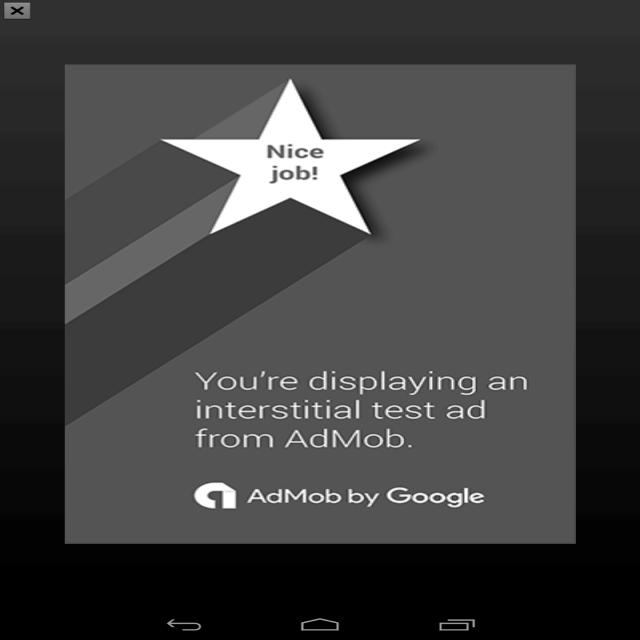ImageView: (180, 477, 242, 515)
TextView: (193, 366, 543, 454), (250, 483, 500, 509), (256, 140, 330, 184)
